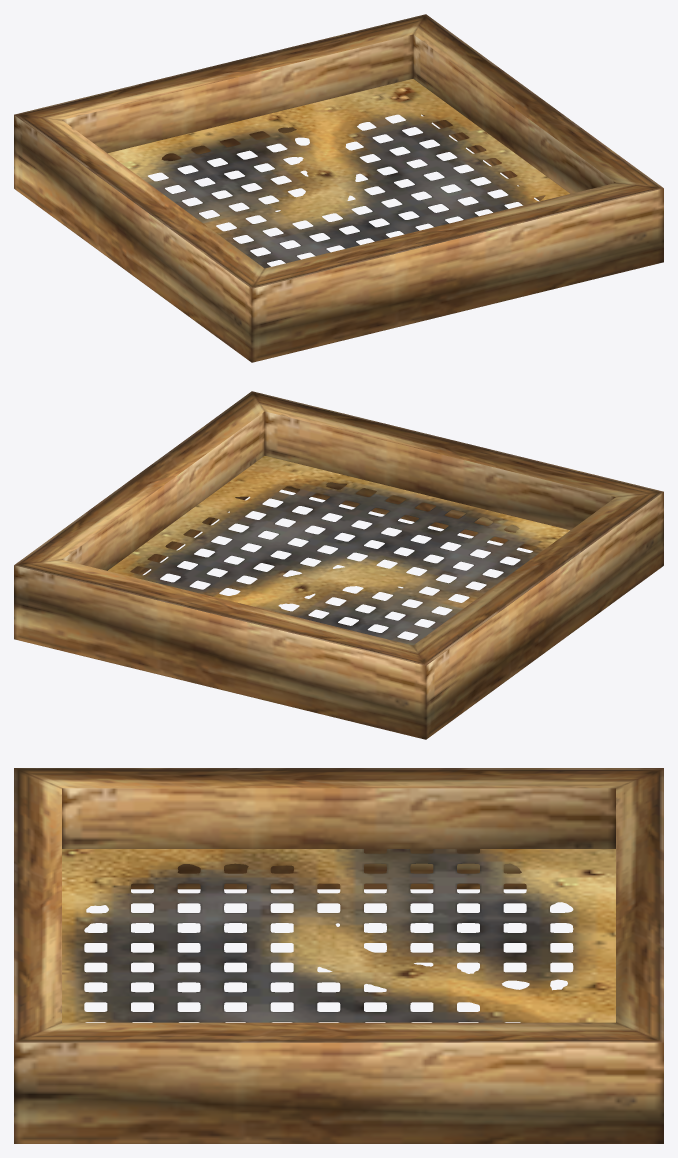
File: miningsifter01.obj
3 renders of one model, top to bottom at view 1: azimuth 30°, elevation 25°; view 2: azimuth 150°, elevation 25°; view 3: azimuth 270°, elevation 25°, orthographic. The views are drawn at different scales.
Parts seen in each view (by area): view 1: Geoset0, Geoset1; view 2: Geoset0, Geoset1; view 3: Geoset0, Geoset1.
Boxes of the visible parts, x1,y1,x2,y2 form: Geoset0: (14, 14, 663, 362); Geoset1: (108, 79, 569, 268); Geoset0: (14, 391, 663, 739); Geoset1: (108, 456, 569, 645); Geoset0: (14, 768, 663, 1143); Geoset1: (62, 849, 615, 1022).
Bounding box in the file's own units: 1.51 × 0.2587 × 1.51.
Materials: 2 (2 with a texture image).
